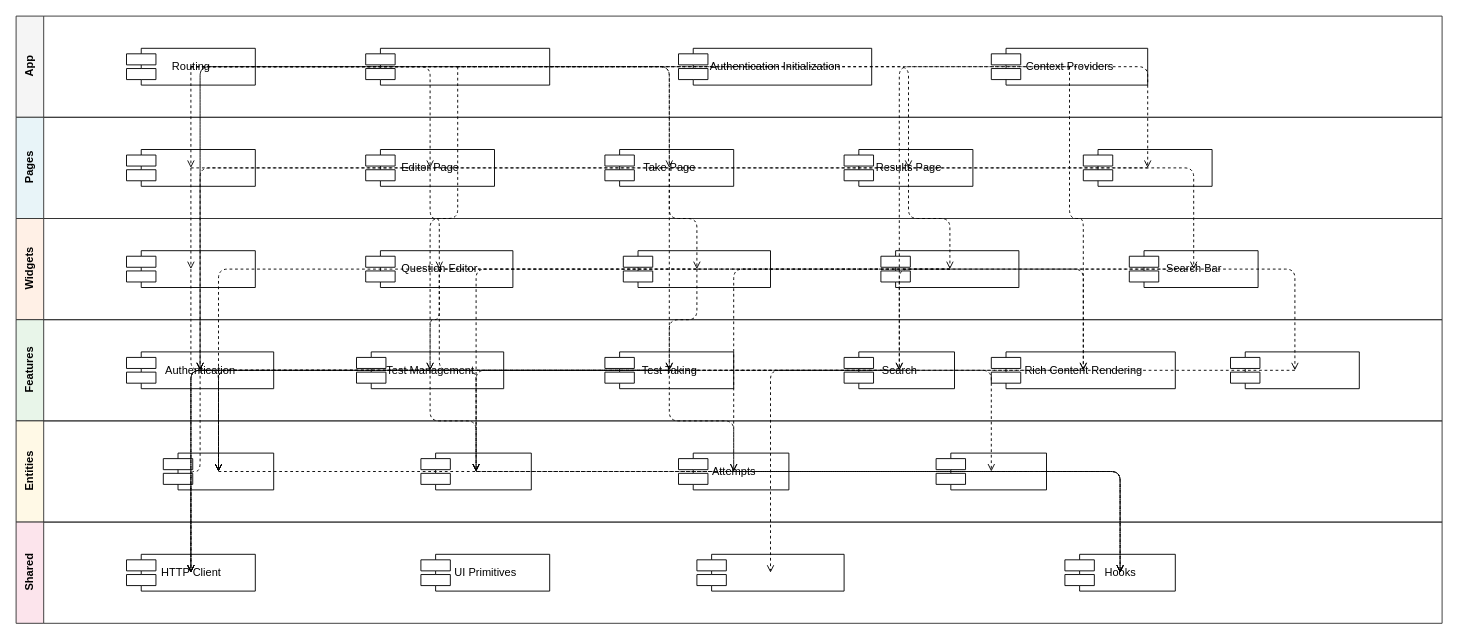
This 1458x639 diagram has some shape labels left out. Each missing label, with the box of its shape:
Catalog Page: (126, 149, 255, 186)
Content Renderer: (696, 553, 844, 591)
File Upload: (1230, 351, 1359, 389)
Global Application State: (365, 47, 550, 85)
Login Page: (1082, 149, 1212, 186)
Question Viewer: (622, 250, 770, 288)
Questions: (420, 452, 531, 490)
Results Panel: (880, 250, 1019, 288)
Test Card: (126, 250, 255, 288)
Tests: (162, 452, 274, 490)
Users: (935, 452, 1046, 490)
